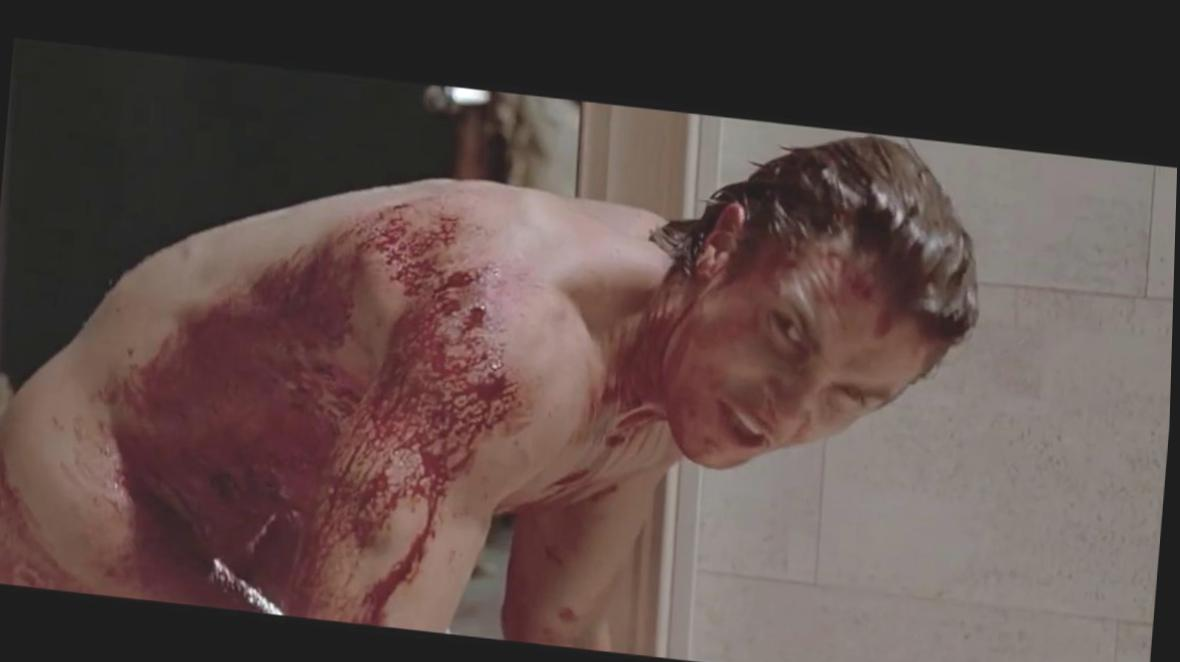Fire: (0, 175, 542, 623), (600, 197, 930, 457), (506, 495, 613, 641), (514, 442, 654, 501)
